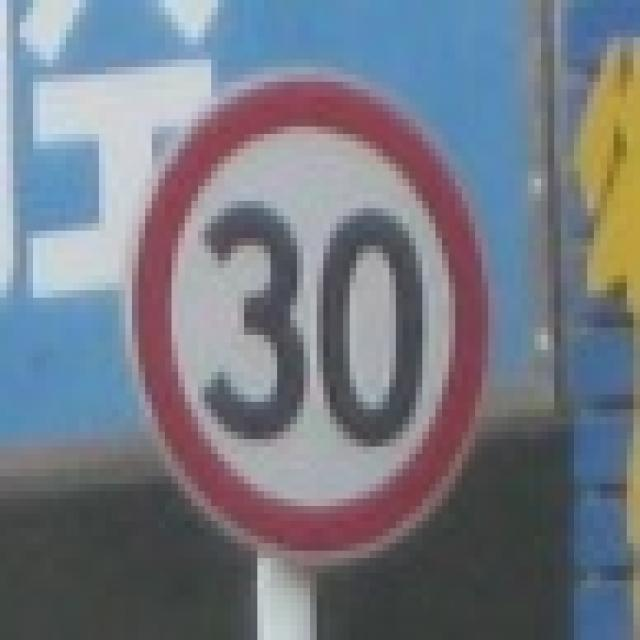Speed Limit -30-: (200, 201, 430, 452)
